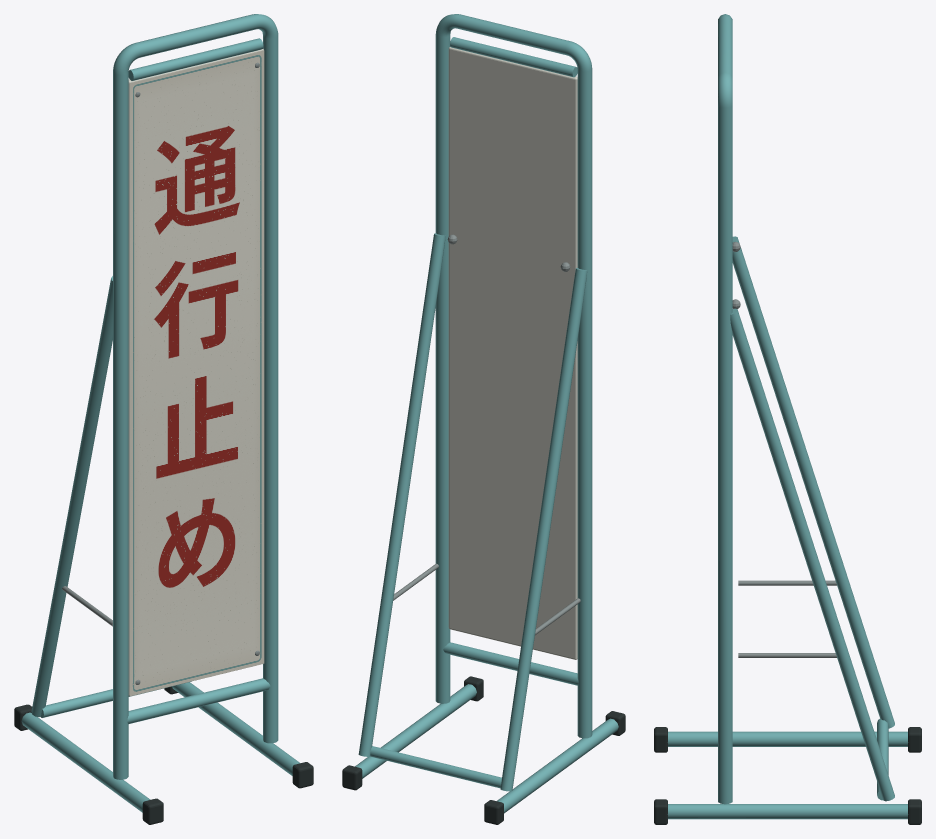
Rendered from Road_Closed_Sign.glb.
3 renders of one model, left to right at view 1: azimuth 30°, elevation 25°; view 2: azimuth 150°, elevation 25°; view 3: azimuth 270°, elevation 25°, orthographic. The views are drawn at different scales.
Parts seen in each view (by area): view 1: Road_Closed_Sign; view 2: Road_Closed_Sign; view 3: Road_Closed_Sign.
Part boxes in pixels (x1,y1,x2,y2): Road_Closed_Sign: (14, 14, 313, 824); Road_Closed_Sign: (342, 14, 625, 824); Road_Closed_Sign: (654, 14, 921, 824).
Size of the model in its own units: 0.294 by 1.27 by 0.417.
5 materials, 1 textured.
